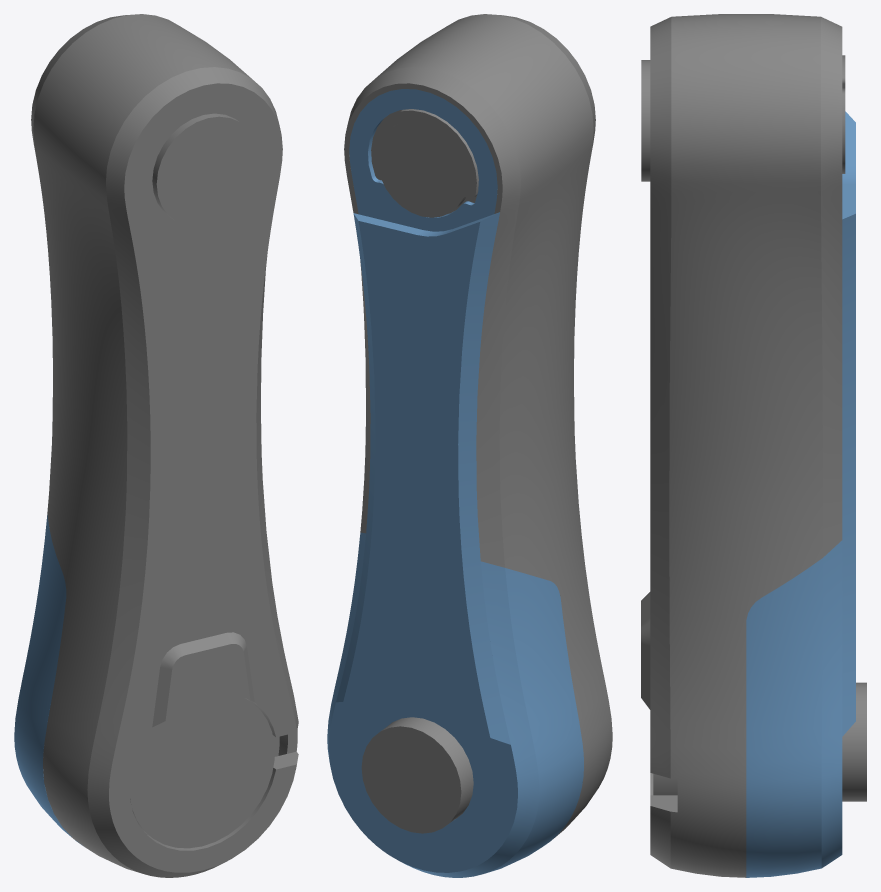
Rendered from thigh_l.dae.
The picture shows the model from 3 angles, left to right: view 1: azimuth 30°, elevation 25°; view 2: azimuth 150°, elevation 25°; view 3: azimuth 270°, elevation 25°; orthographic projection. The views are drawn at different scales.
Parts seen in each view (by area): view 1: thigh_l; view 2: thigh_l; view 3: thigh_l.
Part boxes in pixels (left/top/right/bottom): thigh_l: left=14, top=14, right=298, bottom=877; thigh_l: left=327, top=14, right=612, bottom=877; thigh_l: left=641, top=14, right=866, bottom=877.
Bounding box in the file's own units: 0.0892 × 0.0741 × 0.3045.
